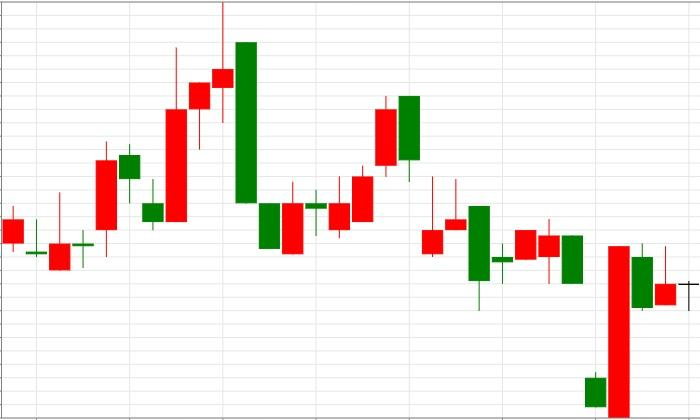bullish_engulfing_rise: (514, 217, 630, 419), (212, 1, 304, 254)
